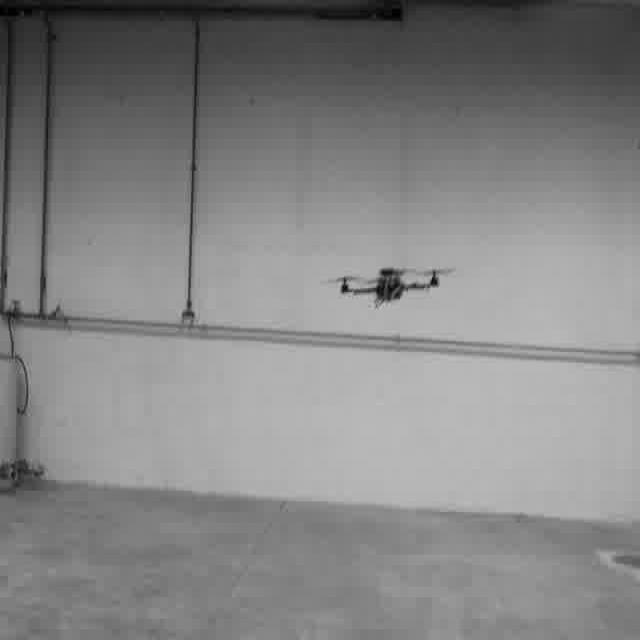drone: (331, 258, 443, 314)
